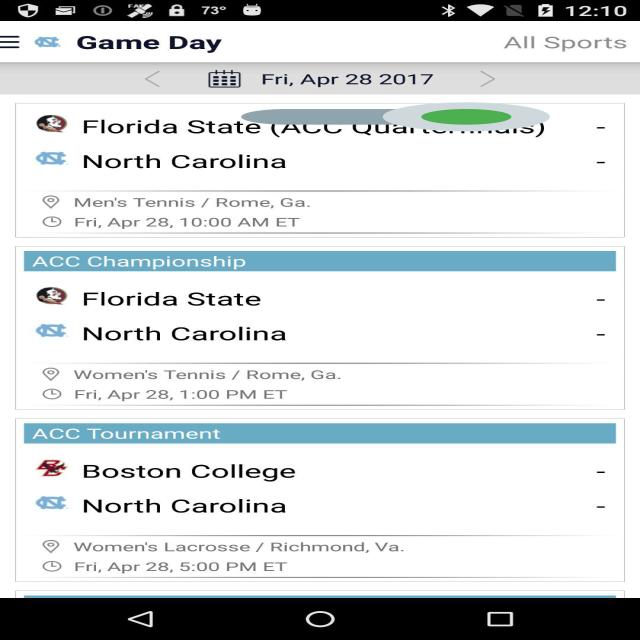social proof: (241, 90, 550, 144)
